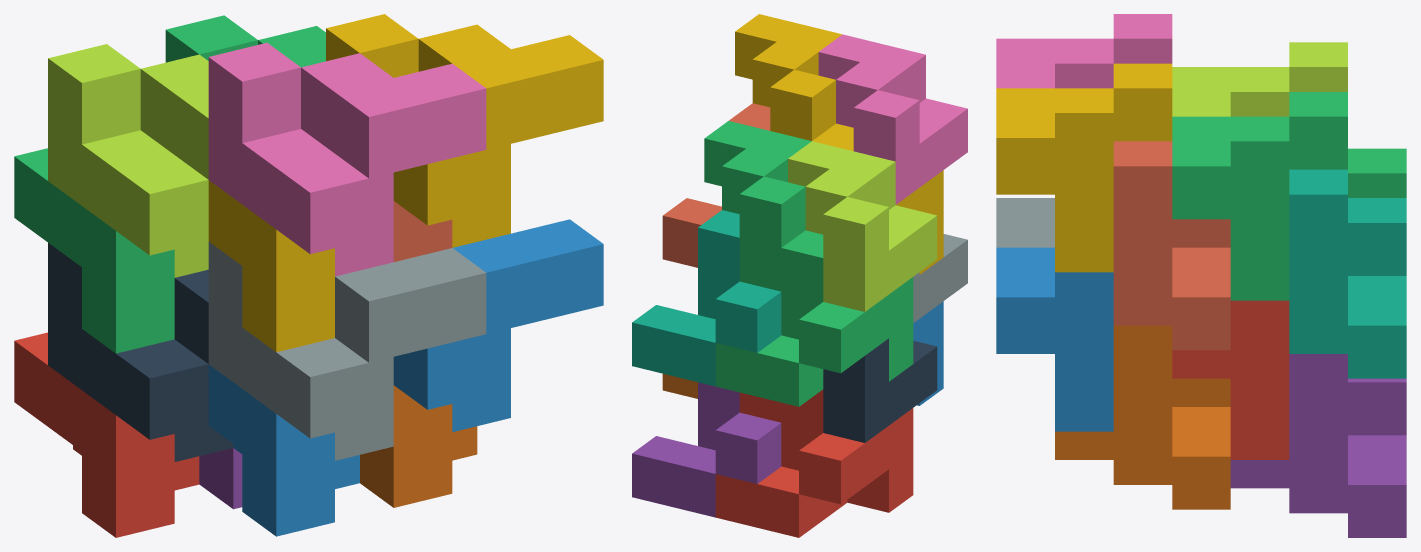
The model's file is tiling.obj.
The picture shows the model from 3 angles, left to right: view 1: azimuth 30°, elevation 25°; view 2: azimuth 150°, elevation 25°; view 3: azimuth 270°, elevation 25°; orthographic projection. The views are drawn at different scales.
Parts seen in each view (by area): view 1: copy_2_domain_4, copy_2_domain_2, copy_2_domain_3, copy_2_domain_8, copy_2_domain_6, copy_2_domain_1, copy_1_domain_1, copy_1_domain_3, copy_1_domain_2, copy_1_domain_4, copy_1_domain_6, copy_2_domain_7 (+2 smaller); view 2: copy_1_domain_3, copy_2_domain_3, copy_1_domain_1, copy_2_domain_4, copy_1_domain_7, copy_1_domain_5, copy_2_domain_7, copy_2_domain_8, copy_2_domain_1, copy_1_domain_8, copy_2_domain_2, copy_1_domain_4 (+3 smaller); view 3: copy_2_domain_8, copy_2_domain_7, copy_1_domain_7, copy_1_domain_5, copy_1_domain_6, copy_1_domain_8, copy_2_domain_6, copy_2_domain_5, copy_2_domain_4, copy_2_domain_3, copy_1_domain_3, copy_2_domain_2.
Boxes of the visible parts, bbox=[...] form: copy_2_domain_4: bbox=[208, 42, 486, 276]; copy_2_domain_2: bbox=[208, 242, 486, 460]; copy_2_domain_3: bbox=[48, 44, 208, 277]; copy_2_domain_8: bbox=[326, 14, 603, 247]; copy_2_domain_6: bbox=[393, 219, 603, 431]; copy_2_domain_1: bbox=[48, 243, 233, 461]; copy_1_domain_1: bbox=[14, 332, 199, 537]; copy_1_domain_3: bbox=[14, 148, 174, 353]; copy_1_domain_2: bbox=[208, 364, 359, 536]; copy_1_domain_4: bbox=[208, 180, 334, 352]; copy_1_domain_6: bbox=[360, 385, 477, 507]; copy_2_domain_7: bbox=[165, 15, 325, 67]; copy_1_domain_3: bbox=[715, 230, 913, 406]; copy_2_domain_3: bbox=[788, 141, 937, 311]; copy_1_domain_1: bbox=[715, 389, 913, 537]; copy_2_domain_4: bbox=[818, 34, 967, 204]; copy_1_domain_7: bbox=[632, 210, 781, 386]; copy_1_domain_5: bbox=[632, 382, 781, 517]; copy_2_domain_7: bbox=[704, 121, 811, 291]; copy_2_domain_8: bbox=[735, 14, 841, 140]; copy_2_domain_1: bbox=[823, 338, 937, 442]; copy_1_domain_8: bbox=[662, 103, 770, 267]; copy_2_domain_2: bbox=[913, 234, 967, 322]; copy_1_domain_4: bbox=[812, 123, 943, 274]; copy_2_domain_8: bbox=[996, 63, 1172, 272]; copy_2_domain_7: bbox=[1172, 92, 1347, 300]; copy_1_domain_7: bbox=[1289, 169, 1406, 378]; copy_1_domain_5: bbox=[1230, 354, 1406, 537]; copy_1_domain_6: bbox=[1055, 325, 1230, 509]; copy_1_domain_8: bbox=[1113, 141, 1230, 350]; copy_2_domain_6: bbox=[996, 247, 1113, 431]; copy_2_domain_5: bbox=[1172, 300, 1289, 459]; copy_2_domain_4: bbox=[996, 14, 1172, 88]; copy_2_domain_3: bbox=[1172, 42, 1347, 116]; copy_1_domain_3: bbox=[1348, 148, 1406, 197]; copy_2_domain_2: bbox=[996, 198, 1054, 247].
Size of the model in its own units: 6 by 8 by 7.
